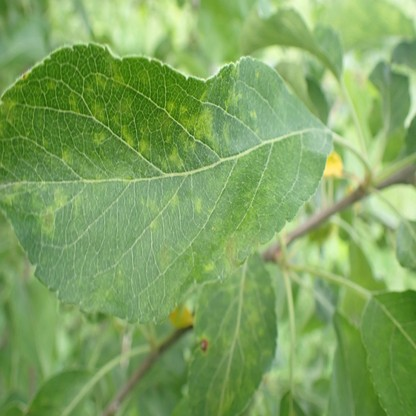frogeye_leaf_spot: (200, 340, 208, 353)
scab: (205, 176, 276, 273), (217, 277, 264, 410), (179, 106, 217, 150), (224, 61, 243, 112), (100, 270, 124, 306), (0, 185, 23, 204), (39, 208, 55, 235), (170, 145, 184, 170), (159, 246, 172, 269), (119, 126, 132, 147), (0, 97, 15, 114), (55, 186, 66, 206), (223, 122, 231, 146), (167, 191, 178, 208), (68, 97, 78, 115), (45, 79, 60, 90), (140, 138, 149, 155), (192, 196, 201, 213), (158, 154, 167, 170), (94, 132, 104, 146), (63, 151, 72, 166), (199, 90, 207, 103), (145, 199, 154, 209), (166, 102, 174, 113), (250, 110, 256, 120), (164, 136, 171, 144), (180, 106, 186, 114)
